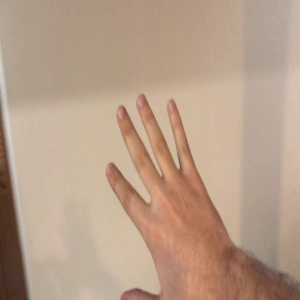hand: (106, 94, 271, 297)
